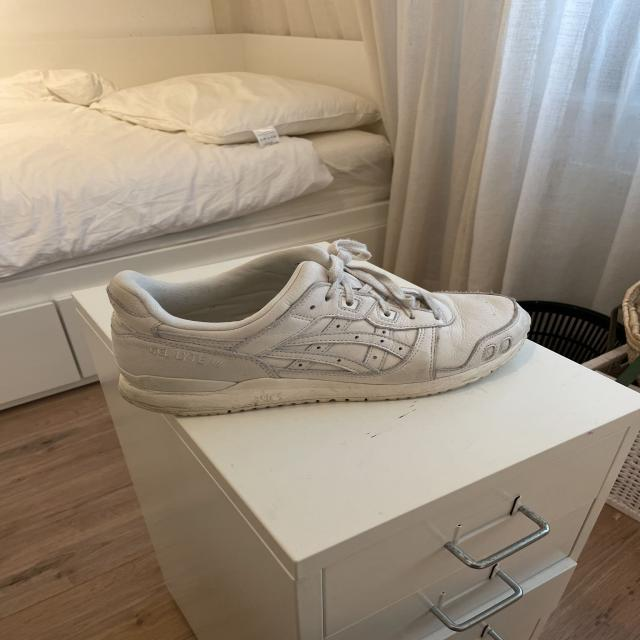shoe: (107, 240, 534, 417)
